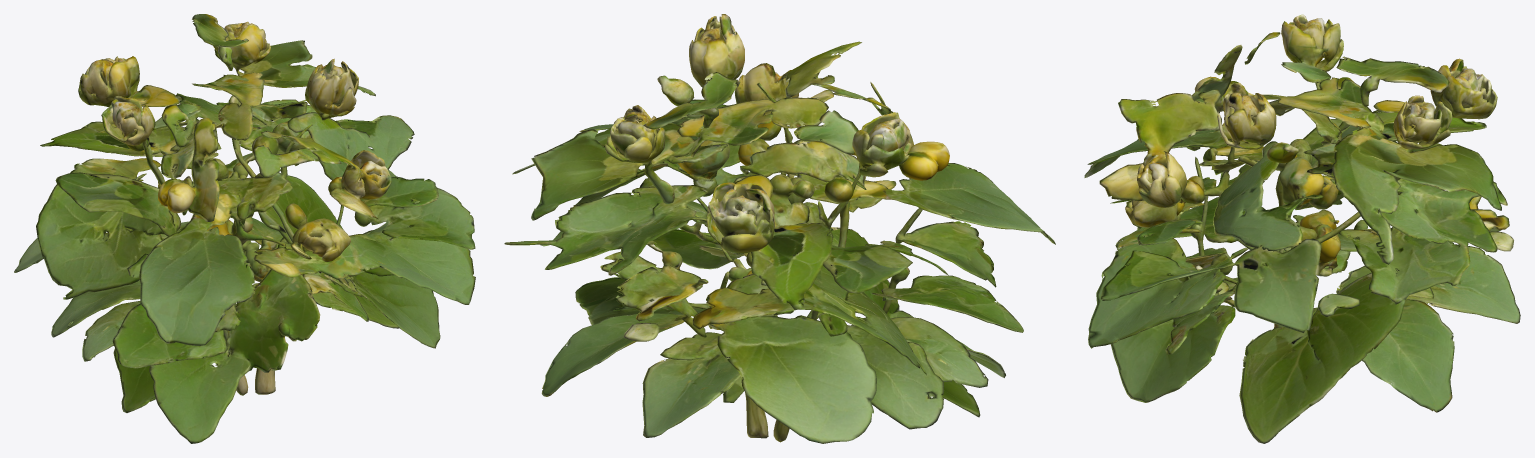
File: Ashwagandha.glb
The picture shows the model from 3 angles, left to right: view 1: azimuth 30°, elevation 25°; view 2: azimuth 150°, elevation 25°; view 3: azimuth 270°, elevation 25°; orthographic projection. The views are drawn at different scales.
Size of the model in its own units: 2 by 1.83 by 1.99.
Materials: 1 (1 with a texture image).
